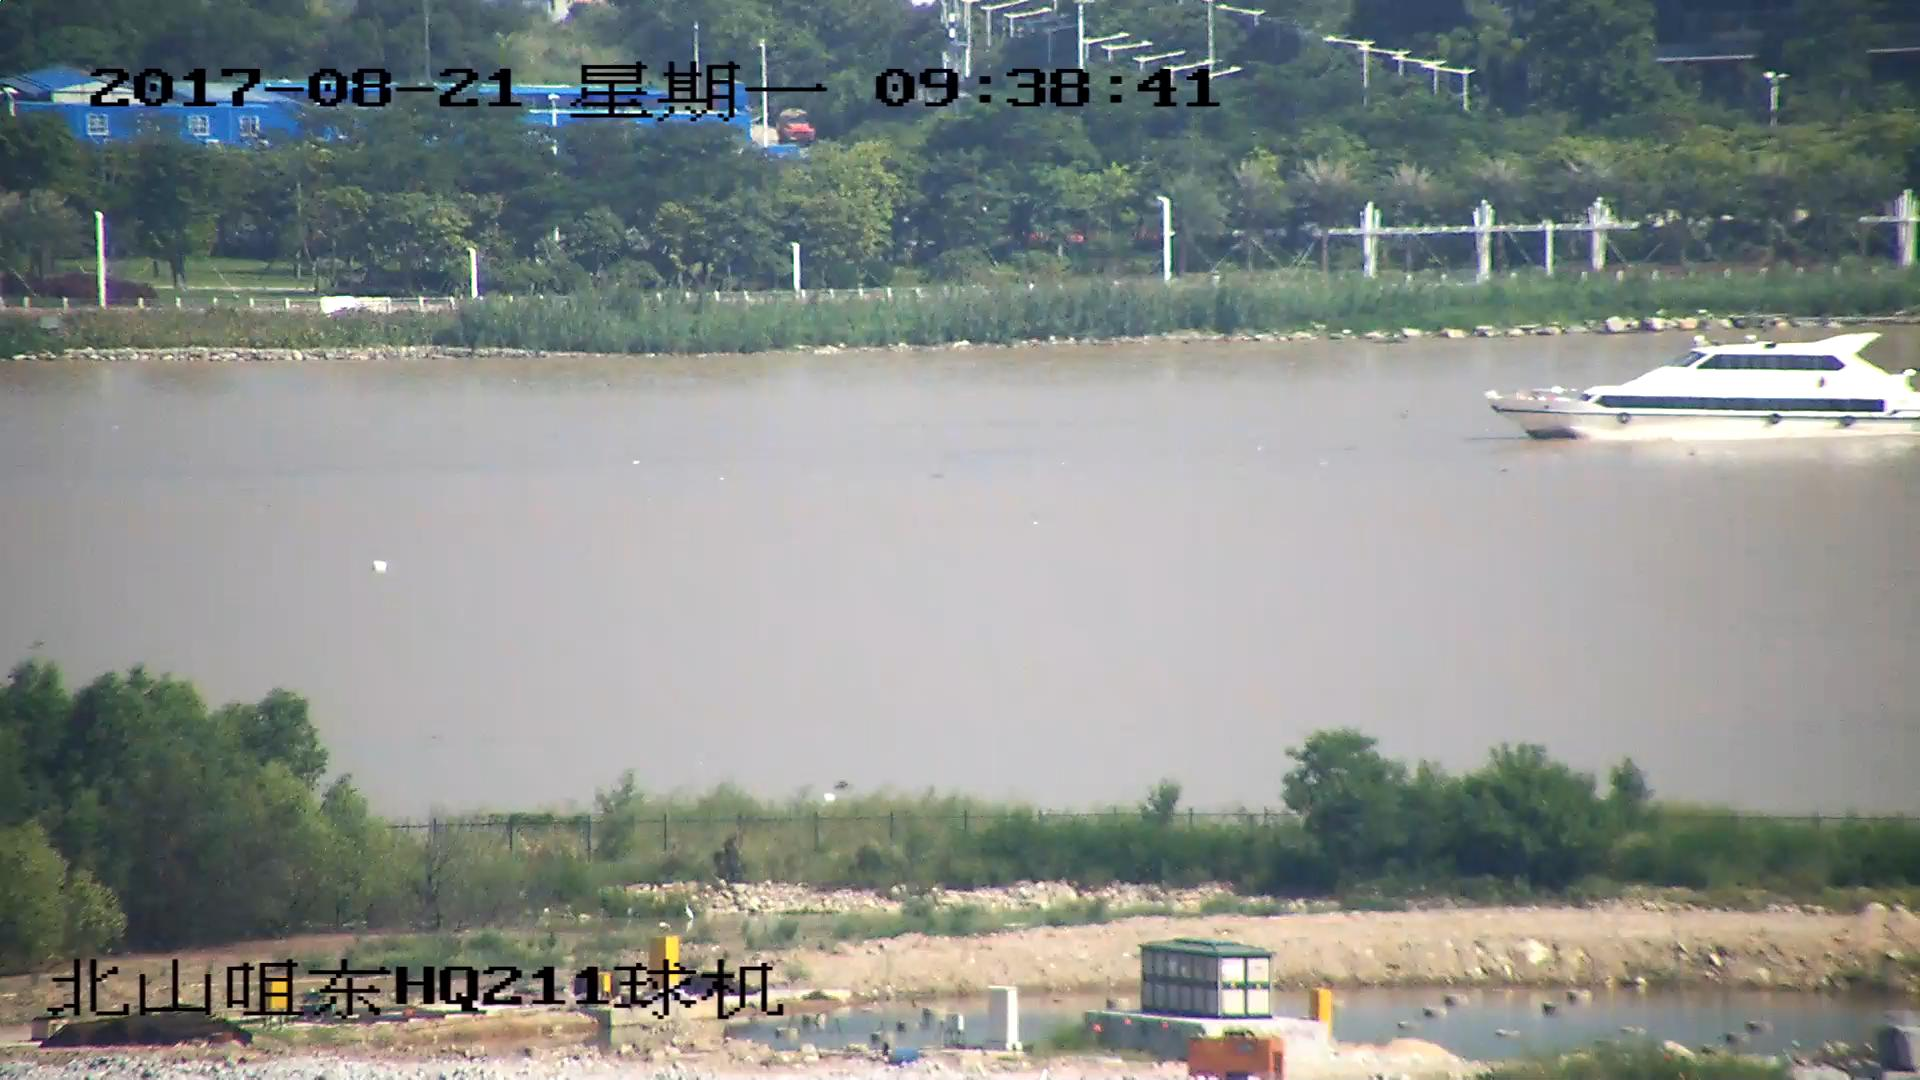passenger ship: (1490, 327, 1920, 439)
